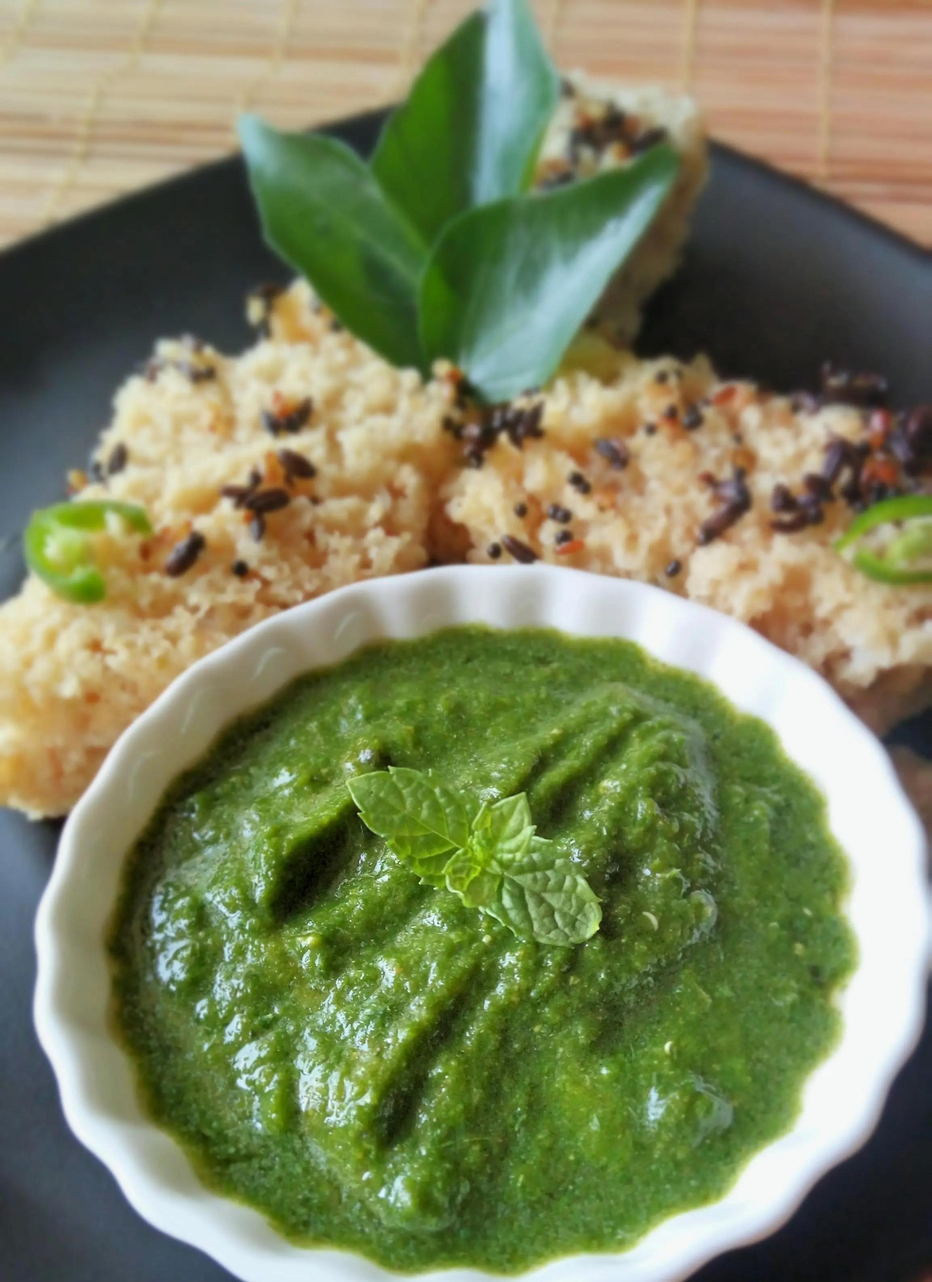GreenChutney: (115, 625, 848, 1260)
